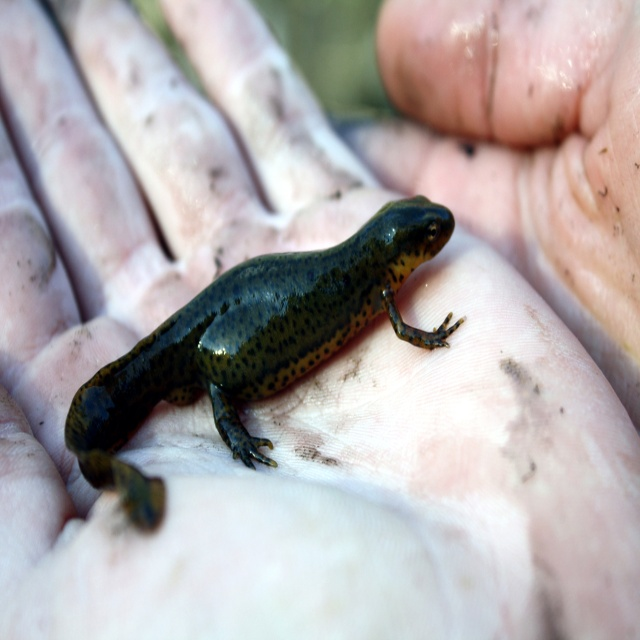Lizard: (65, 196, 469, 533)
